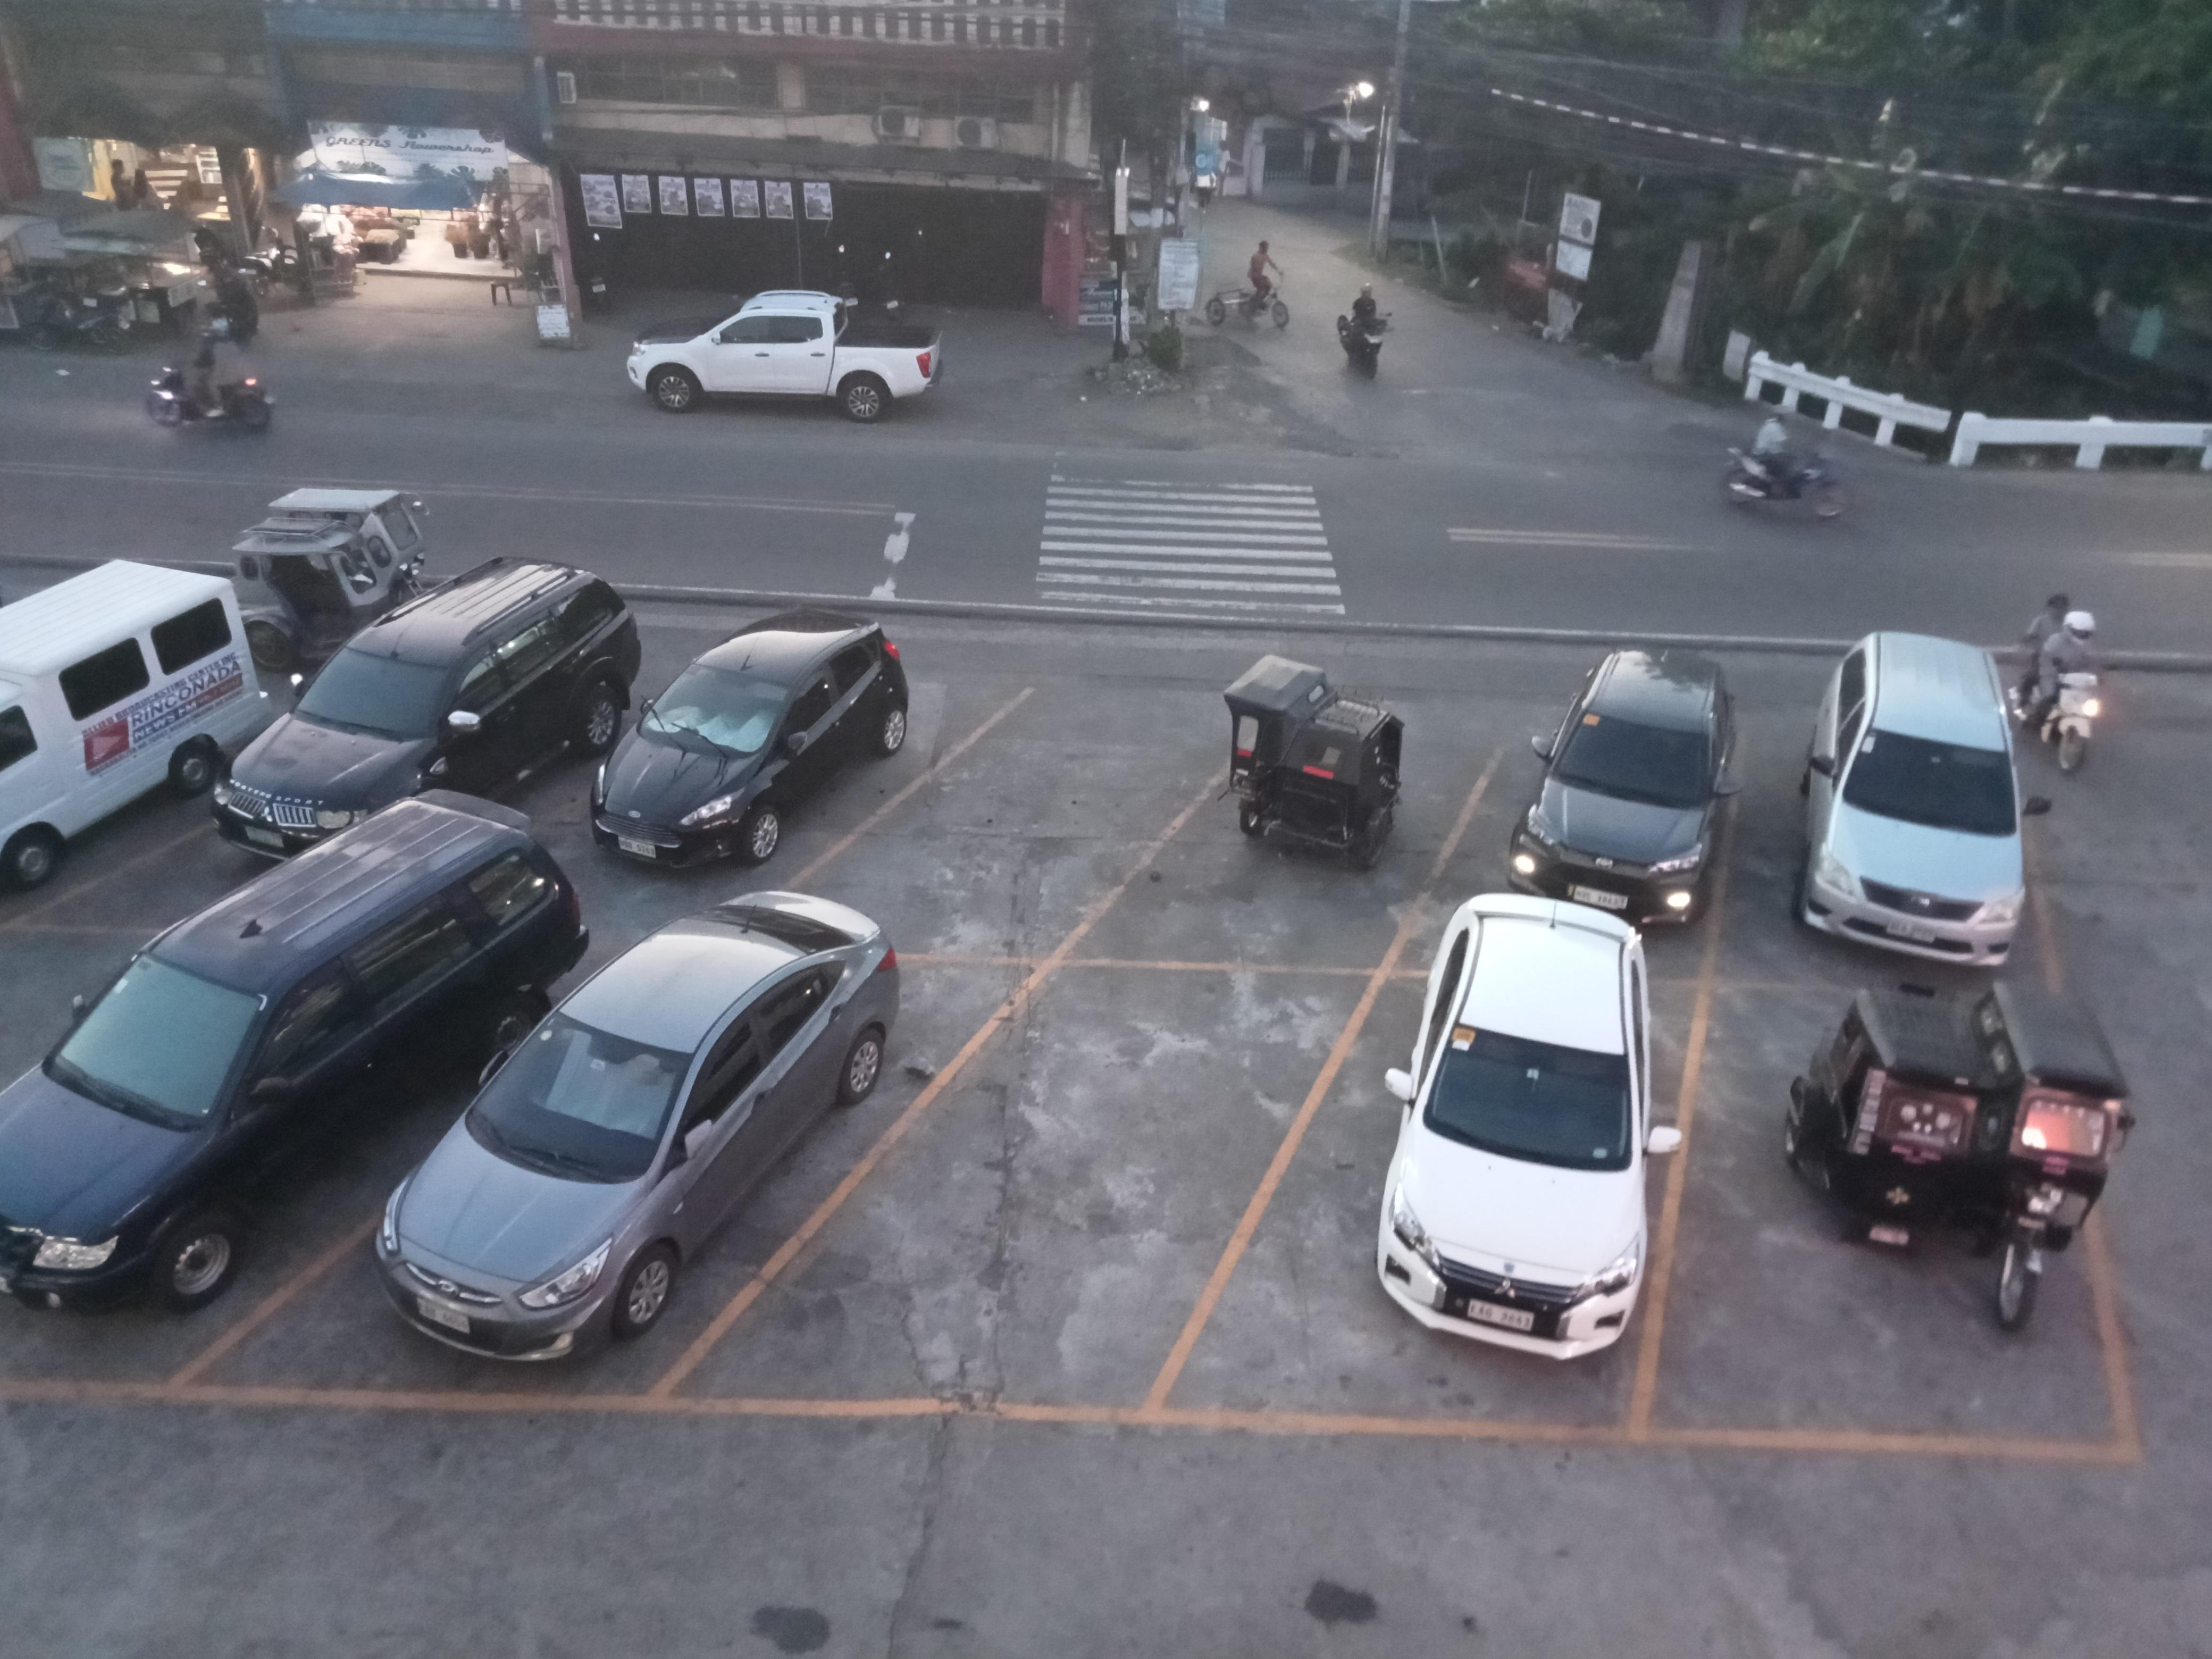occupied: (152, 931, 1068, 1412), (1130, 962, 1723, 1443), (1625, 976, 2137, 1462), (1035, 734, 1510, 976), (1698, 737, 2069, 999), (1372, 742, 1752, 992)
vacant: (631, 951, 1407, 1425), (707, 688, 1266, 971)
